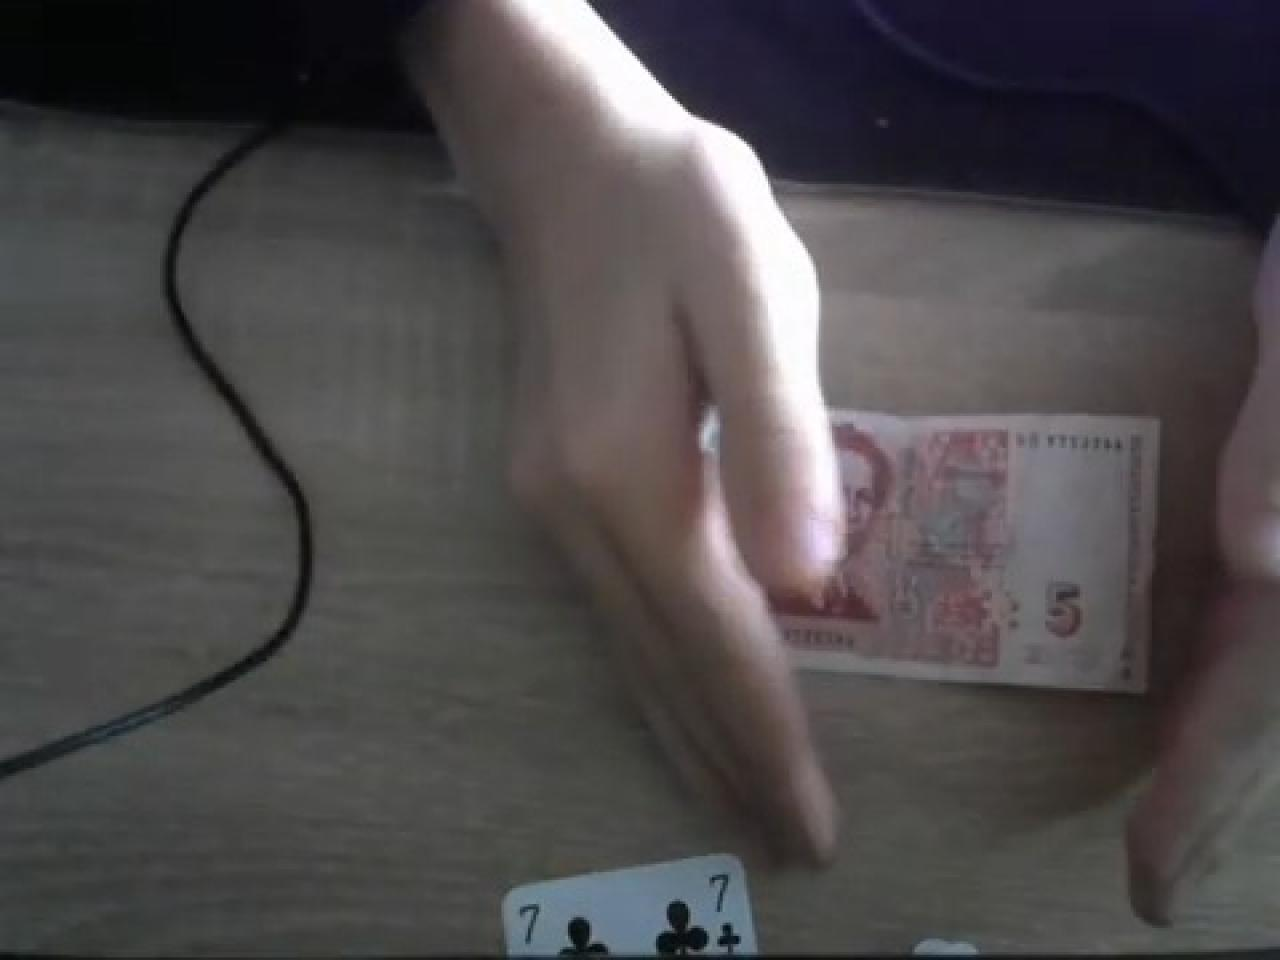5leva: (787, 408, 1160, 701)
